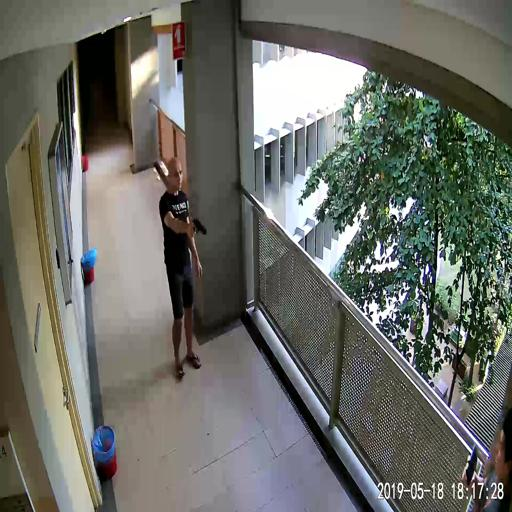pistol: (190, 217, 206, 239)
